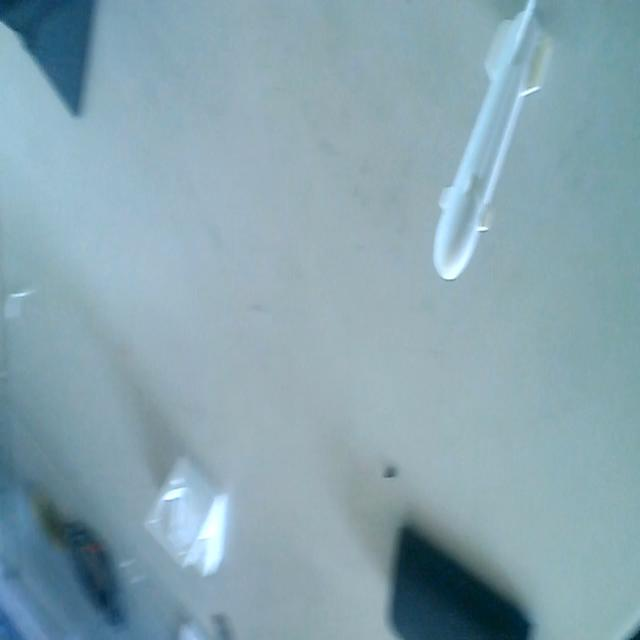Rocket: (432, 0, 552, 293)
